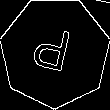P_S: (32, 23, 78, 81)
